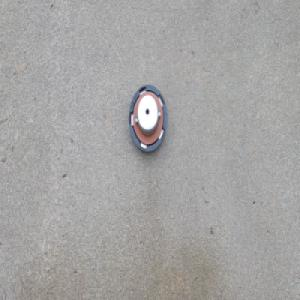FuelCap: (127, 83, 168, 156)
